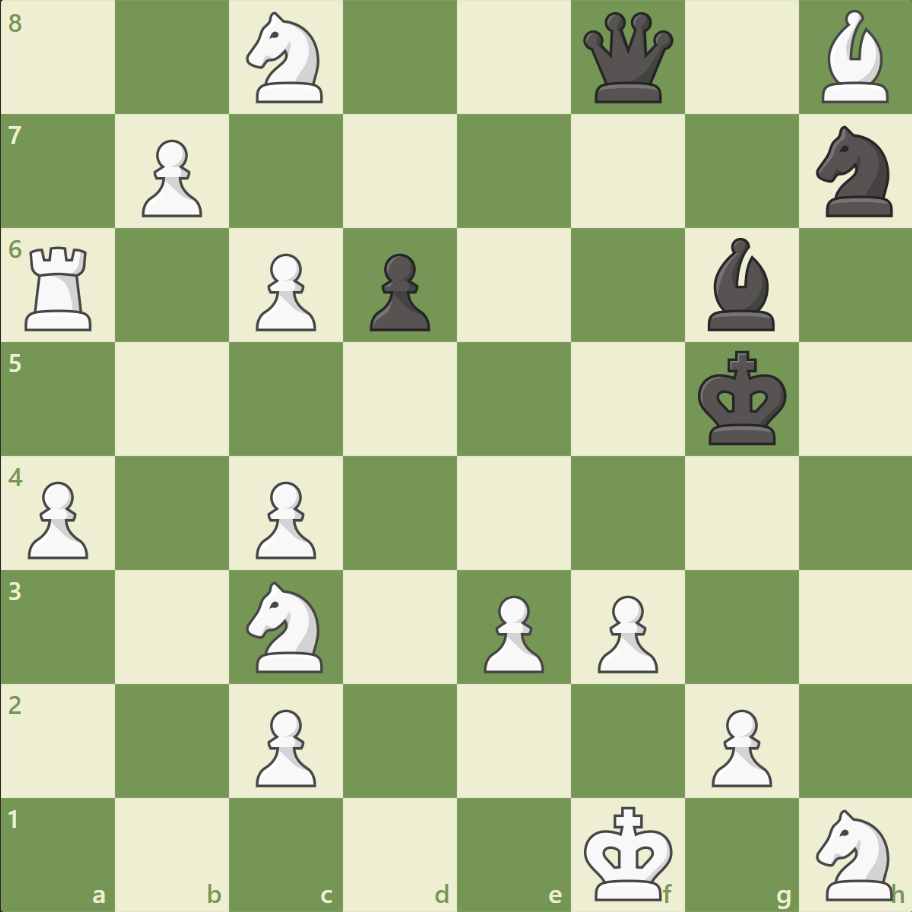B: (812, 6, 896, 109)
K: (579, 798, 679, 906)
N: (238, 7, 335, 110), (238, 575, 335, 677), (806, 802, 903, 904)
P: (133, 132, 208, 223), (247, 246, 322, 337), (20, 473, 95, 564), (247, 473, 322, 564), (474, 586, 549, 677), (247, 700, 322, 791), (701, 700, 776, 791), (588, 586, 662, 677)
R: (19, 239, 102, 336)
b: (698, 233, 782, 336)
k: (692, 344, 792, 452)
n: (806, 121, 903, 223)
p: (361, 246, 435, 337)
q: (578, 9, 677, 108)
